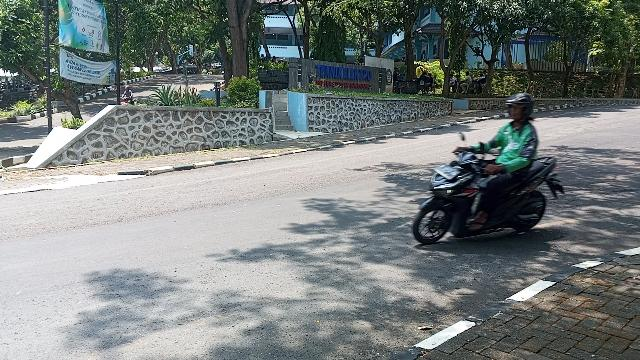helm: (505, 93, 535, 123)
motor: (413, 132, 567, 247)
